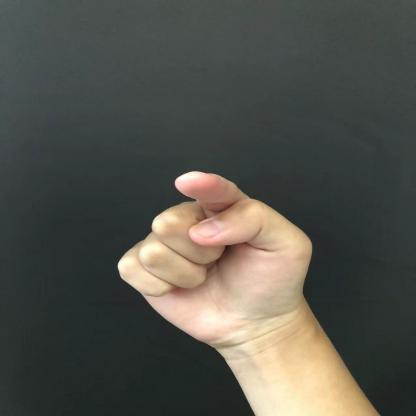finger_point: (168, 94, 233, 219)
